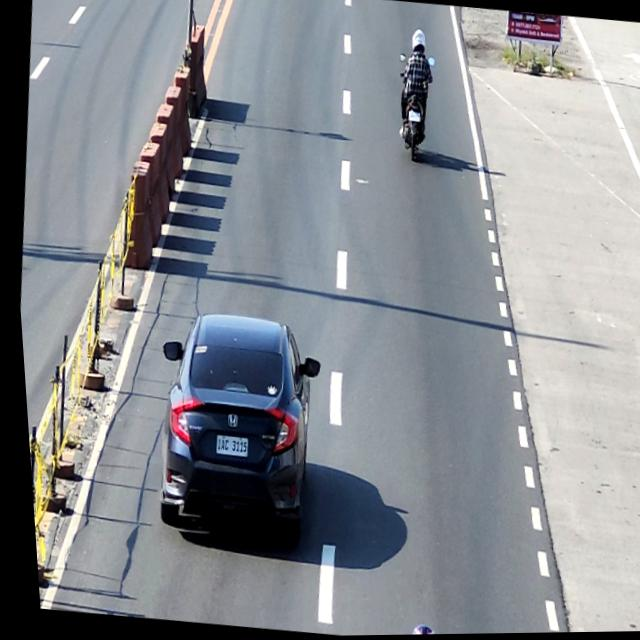Car: (136, 306, 329, 544)
License-Plate: (208, 433, 243, 459), (405, 111, 419, 124)
Motorcycle: (387, 53, 440, 166)
